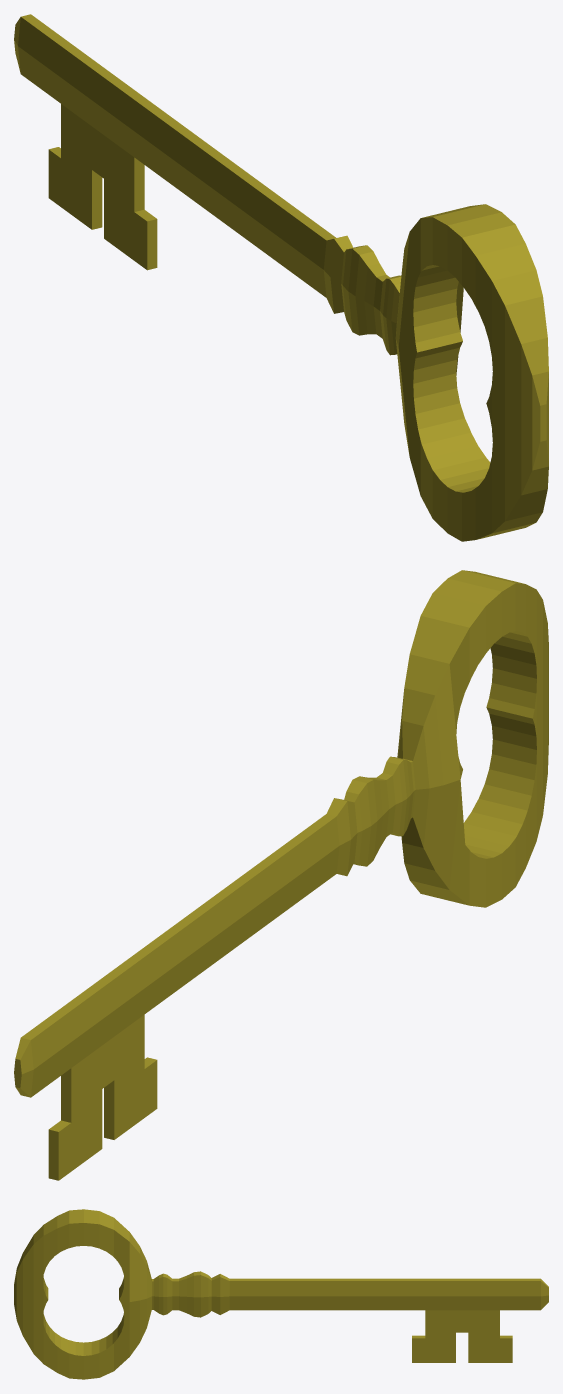
File: Key.fbx
3 views of the same model, one above another, from view 1: azimuth 30°, elevation 25°; view 2: azimuth 150°, elevation 25°; view 3: azimuth 270°, elevation 25° (orthographic). The views are drawn at different scales.
Parts seen in each view (by area): view 1: Plane; view 2: Plane; view 3: Plane.
Boxes of the visible parts, x1=… form: Plane: x1=14, y1=14, x2=548, y2=541; Plane: x1=14, y1=570, x2=548, y2=1180; Plane: x1=14, y1=1209, x2=548, y2=1379.
Bounding box in the file's own units: 70.68 × 336 × 1039.
